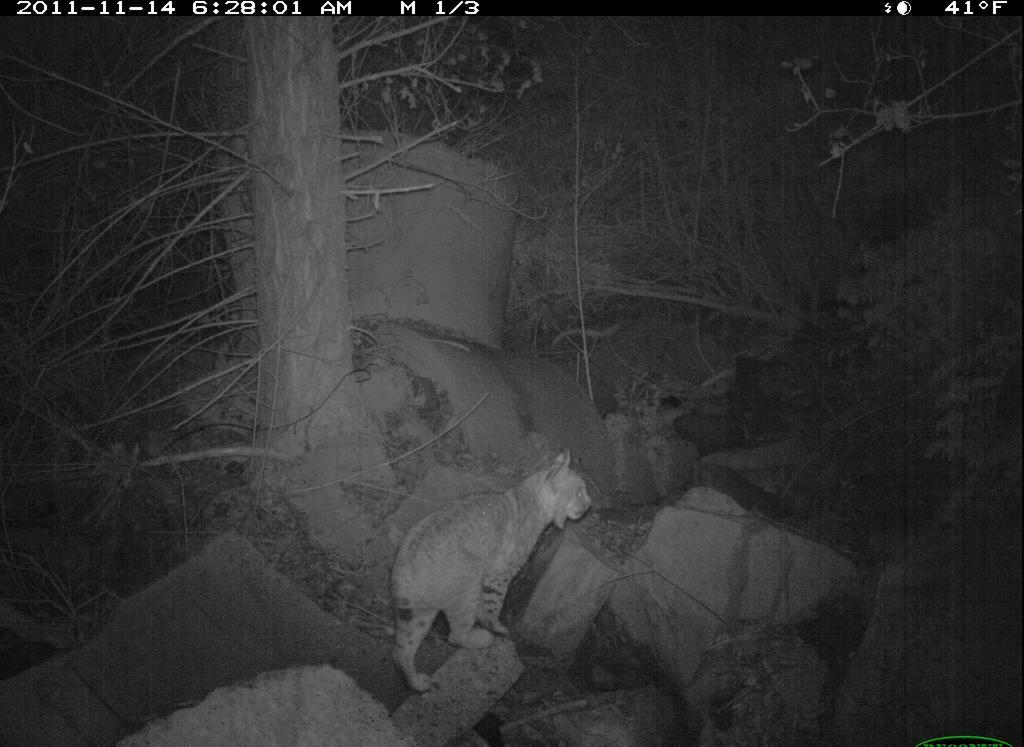bobcat: (370, 441, 602, 702)
